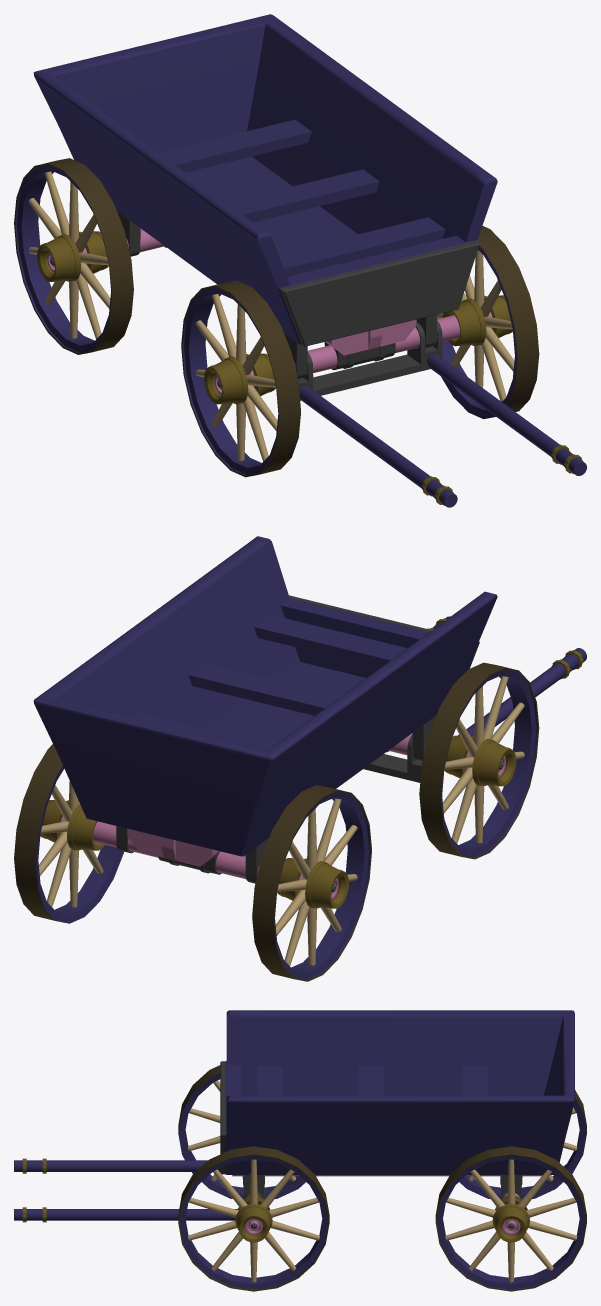
File: Wagon.fbx
The picture shows the model from 3 angles, top to bottom: view 1: azimuth 30°, elevation 25°; view 2: azimuth 150°, elevation 25°; view 3: azimuth 270°, elevation 25°; orthographic projection. The views are drawn at different scales.
Visible parts, largest first — view 1: Cab, Back_Right_Wheel, Front_Right_Wheel, Front_Left_Wheel, Handles, Front_Axel_Hub, Front_Axel; view 2: Cab, Front_Right_Wheel, Back_Right_Wheel, Back_Left_Wheel, Handles, Back_Axel, Back_Axel_Hub; view 3: Cab, Back_Left_Wheel, Front_Left_Wheel, Handles, Front_Right_Wheel, Back_Right_Wheel.
Boxes of the visible parts, bbox=[...] form: Cab: bbox=[33, 14, 497, 355]; Back_Right_Wheel: bbox=[14, 158, 133, 354]; Front_Right_Wheel: bbox=[181, 280, 300, 477]; Front_Left_Wheel: bbox=[437, 226, 539, 419]; Handles: bbox=[294, 320, 586, 507]; Front_Axel_Hub: bbox=[284, 314, 436, 378]; Front_Axel: bbox=[214, 312, 492, 394]; Cab: bbox=[33, 536, 497, 866]; Front_Right_Wheel: bbox=[419, 662, 539, 859]; Back_Right_Wheel: bbox=[252, 785, 371, 981]; Back_Left_Wheel: bbox=[14, 744, 123, 923]; Handles: bbox=[363, 616, 586, 782]; Back_Axel: bbox=[60, 816, 338, 899]; Back_Axel_Hub: bbox=[116, 826, 268, 883]; Cab: bbox=[220, 1010, 574, 1176]; Back_Left_Wheel: bbox=[435, 1146, 586, 1291]; Front_Left_Wheel: bbox=[178, 1146, 329, 1291]; Handles: bbox=[14, 1158, 264, 1222]; Front_Right_Wheel: bbox=[178, 1065, 305, 1198]; Back_Right_Wheel: bbox=[459, 1090, 586, 1199].
Size of the model in its own units: 17.54 by 14.01 by 38.57.
